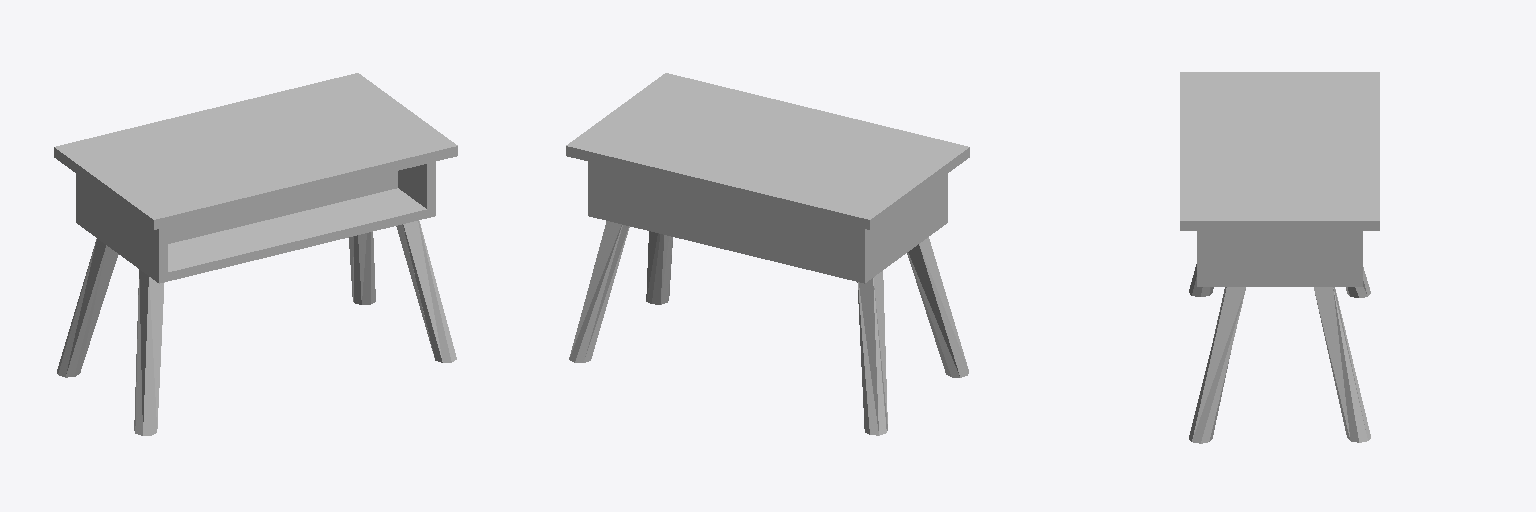
The model's file is studentdesk.obj.
3 views of the same model, side by side, from view 1: azimuth 30°, elevation 25°; view 2: azimuth 150°, elevation 25°; view 3: azimuth 270°, elevation 25° (orthographic).
Parts seen in each view (by area): view 1: Cube; view 2: Cube; view 3: Cube.
Part boxes in pixels (bbox=[...]): Cube: bbox=[54, 73, 457, 435]; Cube: bbox=[566, 73, 969, 435]; Cube: bbox=[1180, 72, 1379, 443].
Bounding box in the file's own units: 7.11 × 4.64 × 3.84.